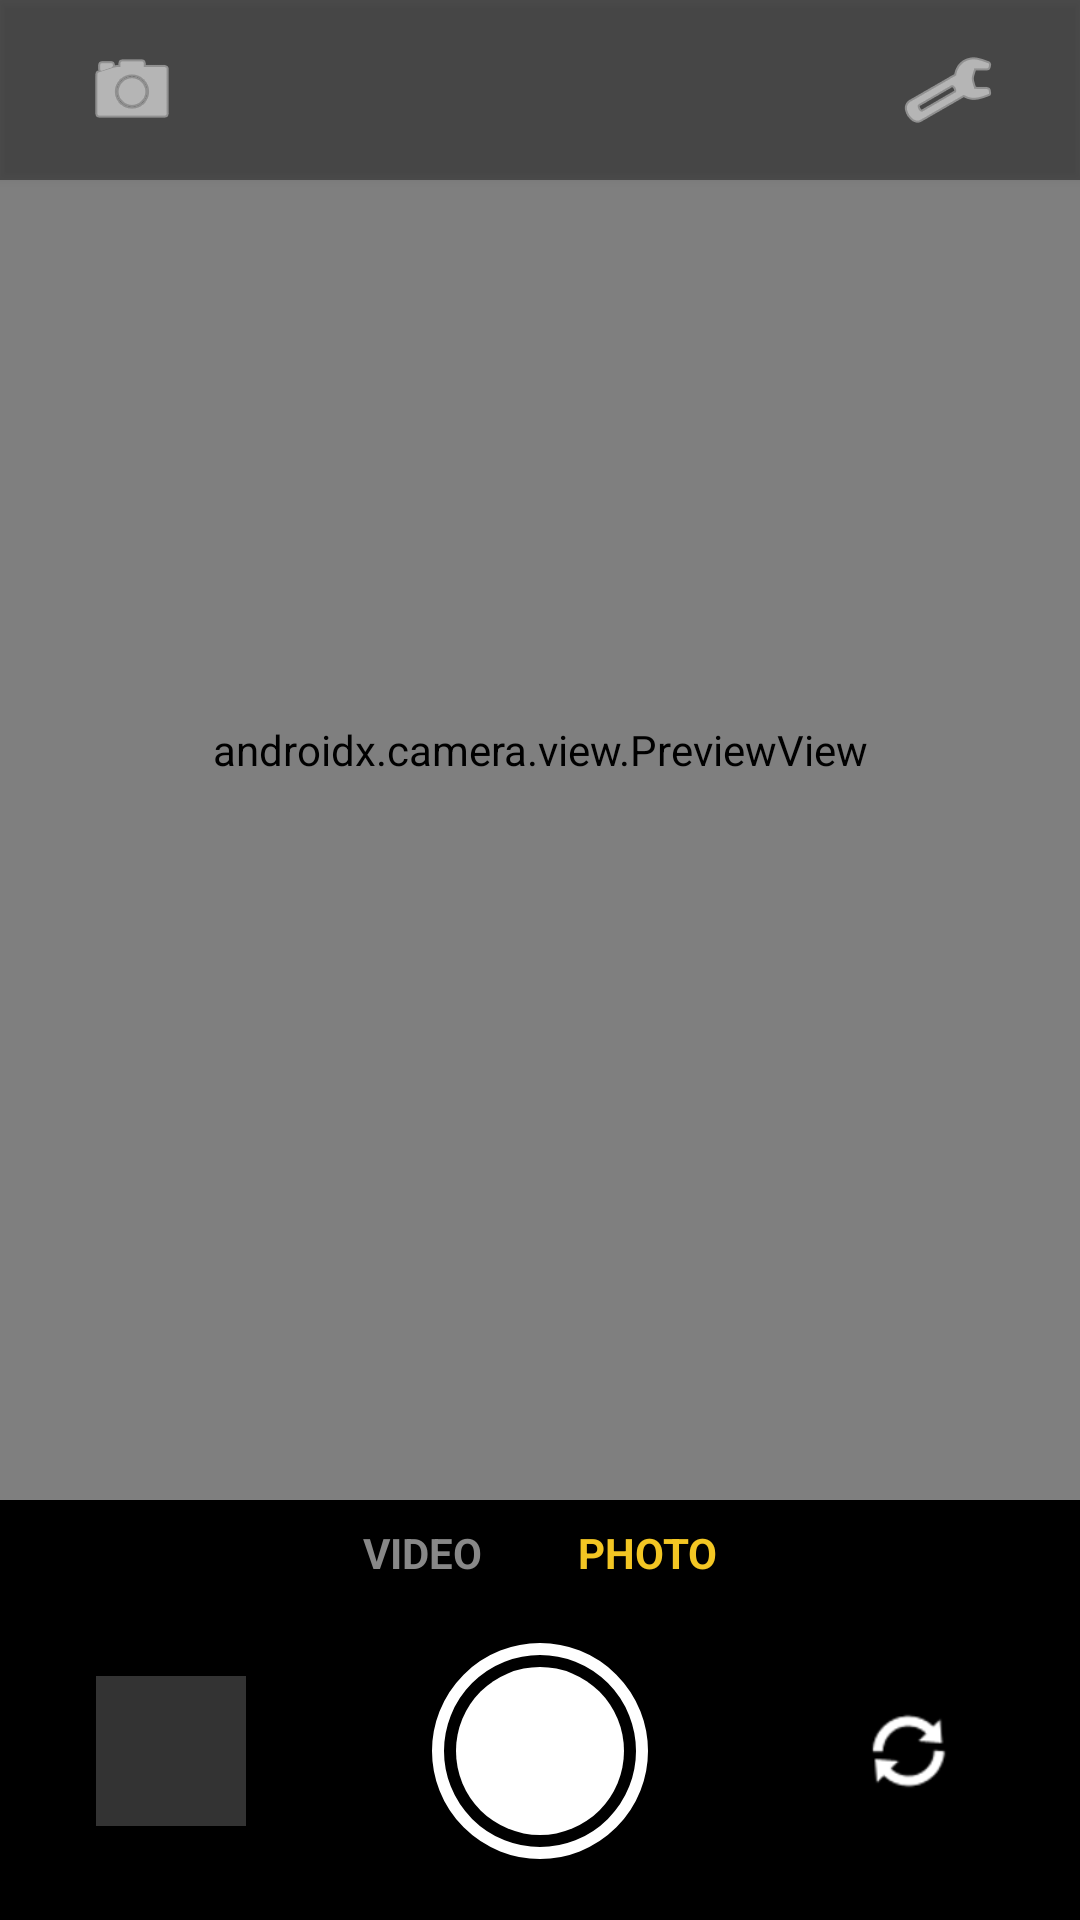

Named icons in this screenshot (1080x1920) and their bounding boxes, Rect(x1, y1, x2, y2):
manage: Rect(905, 57, 991, 123)
popup sync: Rect(872, 1715, 946, 1787)
